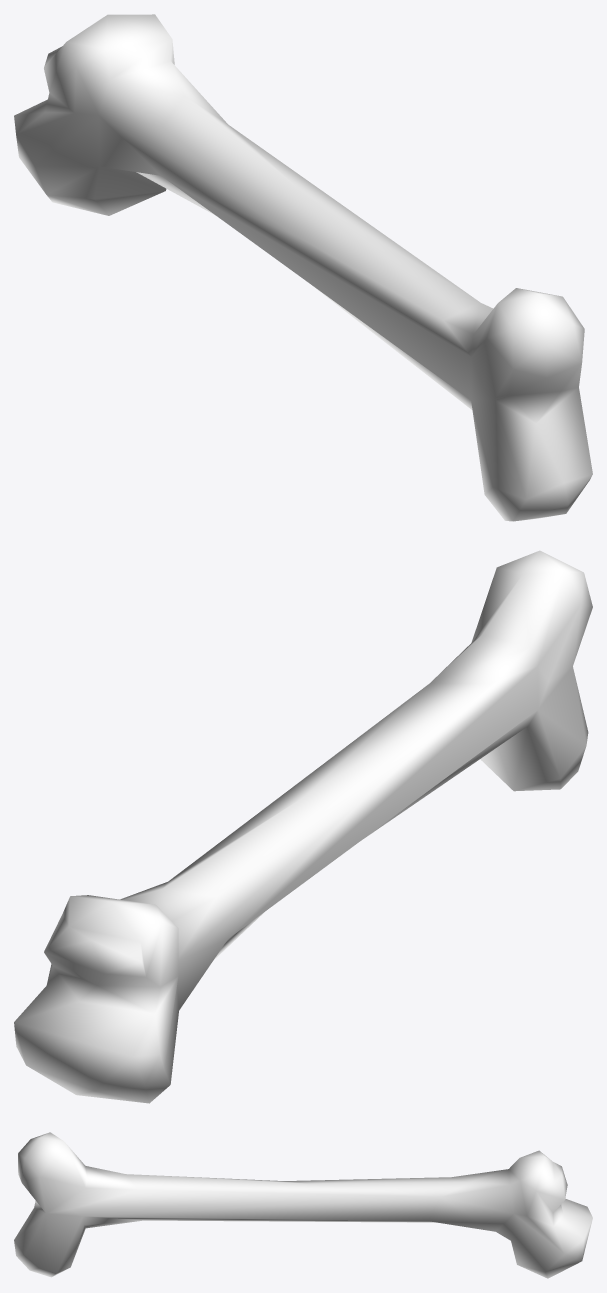
The model's file is bone.fbx.
The picture shows the model from 3 angles, top to bottom: view 1: azimuth 30°, elevation 25°; view 2: azimuth 150°, elevation 25°; view 3: azimuth 270°, elevation 25°; orthographic projection. The views are drawn at different scales.
Visible parts, largest first — view 1: bone; view 2: bone; view 3: bone.
Boxes of the visible parts, left/top/right/bottom form: bone: left=14, top=14, right=592, bottom=521; bone: left=14, top=550, right=592, bottom=1103; bone: left=14, top=1132, right=592, bottom=1278.
Size of the model in its own units: 0.0739 by 0.1176 by 0.4494.
